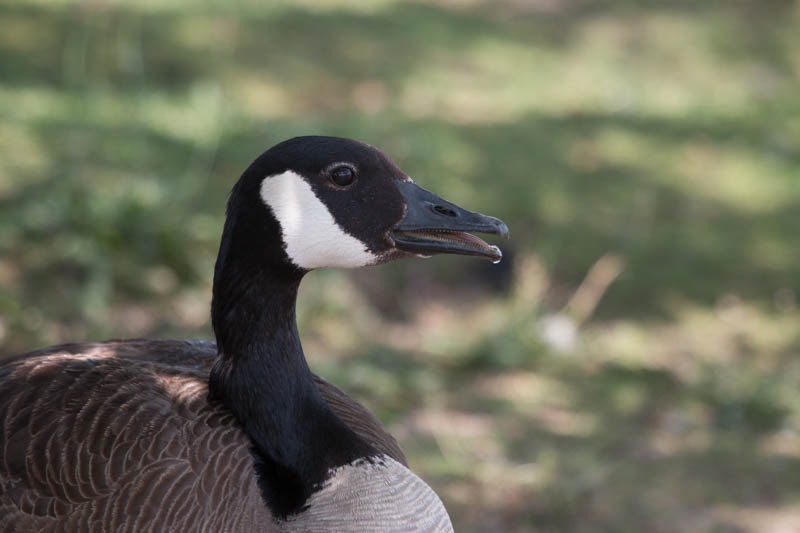goose-head: (213, 136, 509, 275)
